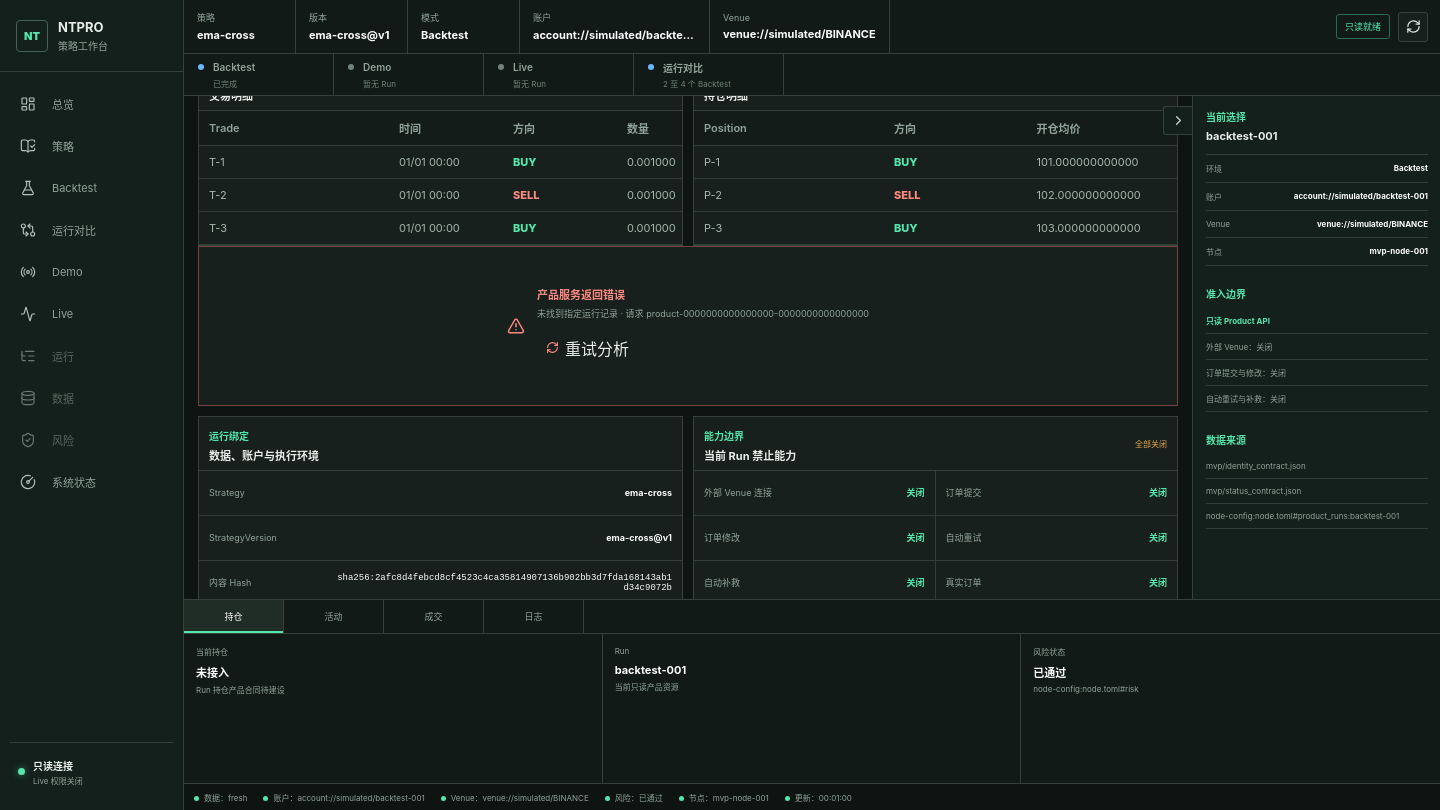
Test: strategy workbench product slice › retries only a failed analysis resource
(page scrolled)
Step 1. Click the button "重试分析" → (588, 348), box [537,330,638,366]
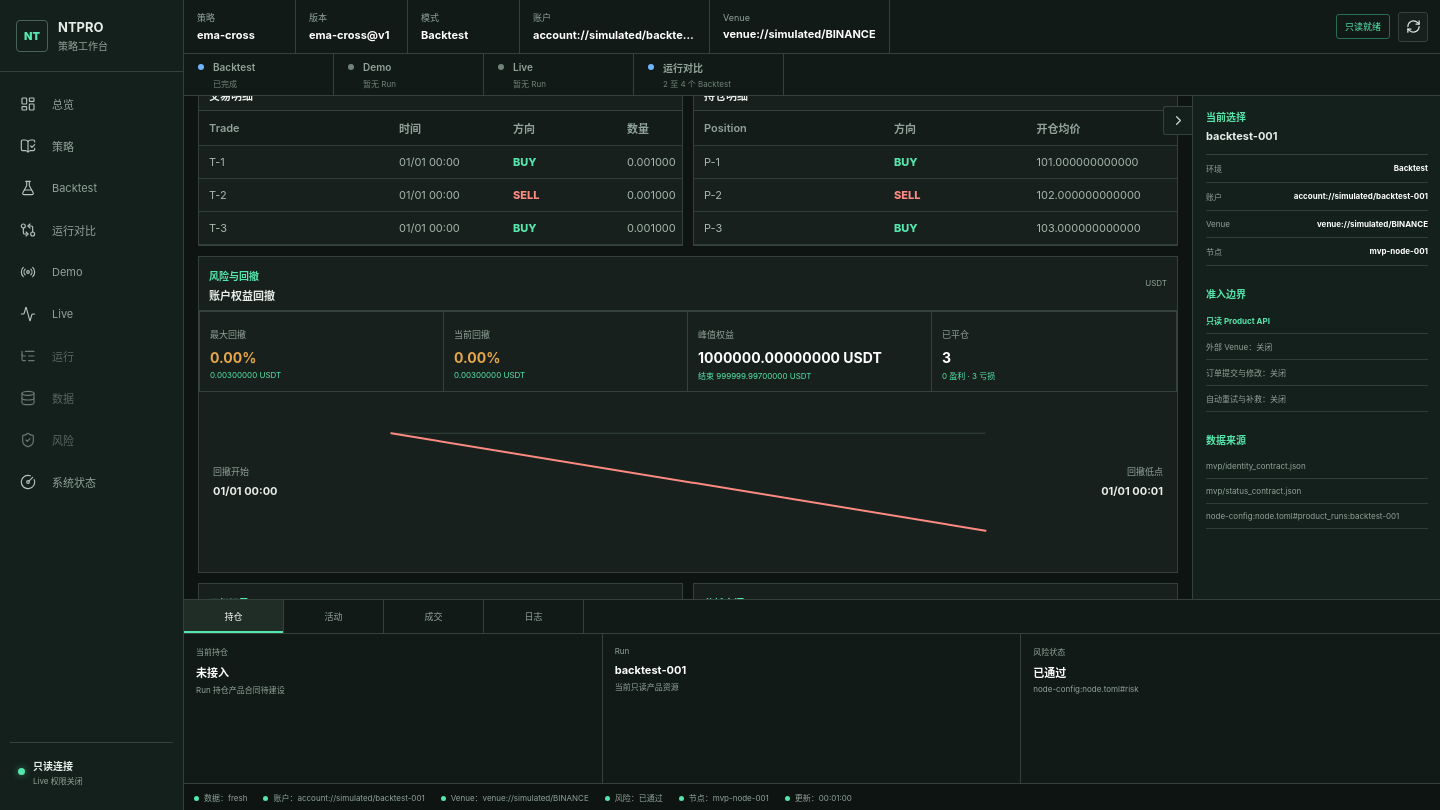
Now the picture named "账户权益回撤随回测时间变化" is shown, box [381,416,995,546]
